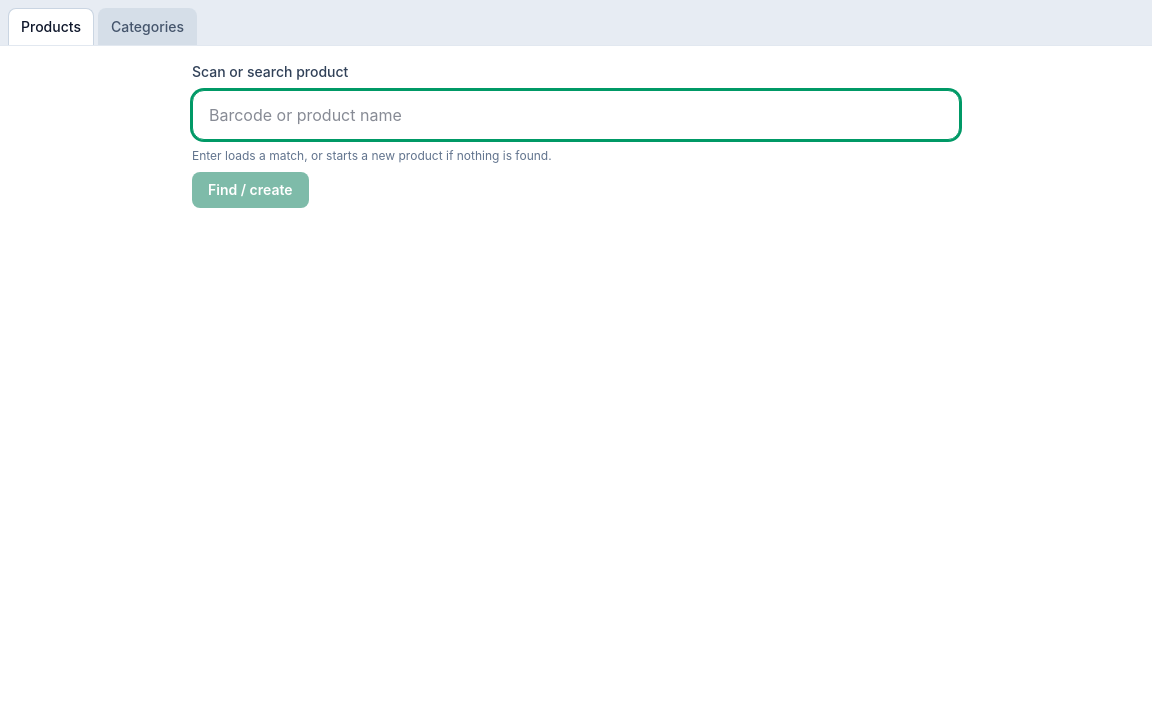
Test: ProductsWorkspace lookup › shows Back and New product on edit toolbar and Back returns to lookup when clean
The width and height of the screenshot is (1152, 710).
Type "1001" into the dropdown labelled "Scan or search product" at (576, 115), box top-left (192, 90), bottom-right (960, 140)
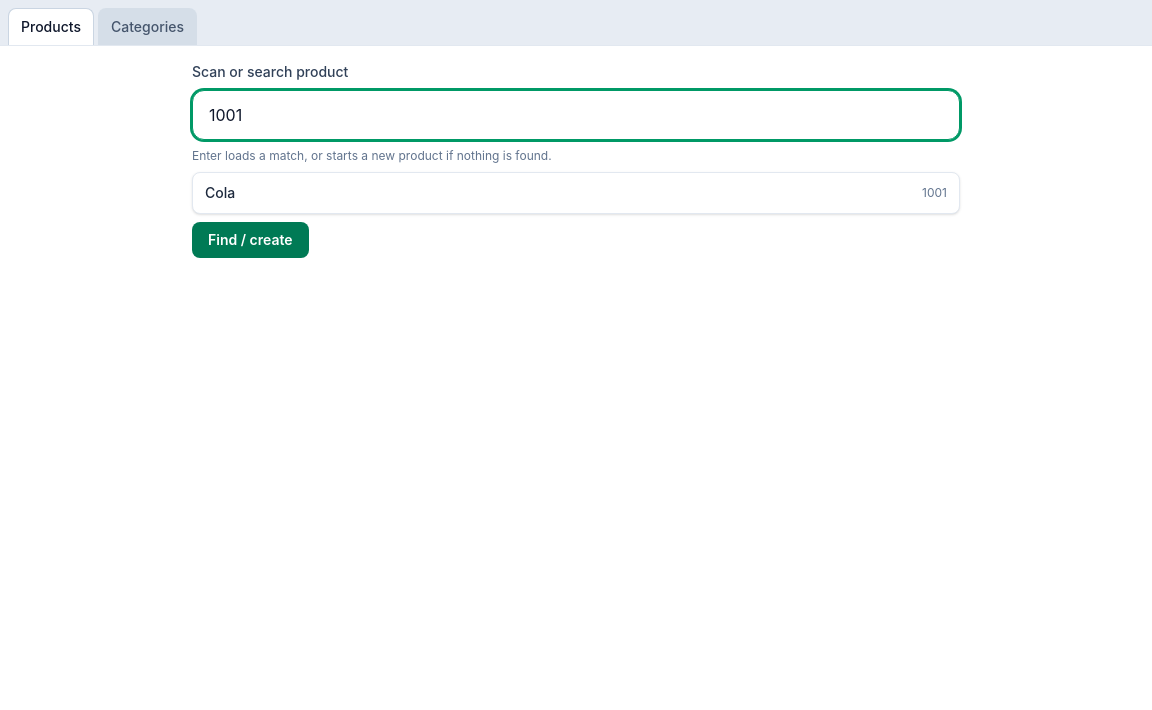
Click the button "Find / create" at (250, 240), box top-left (192, 222), bottom-right (308, 258)
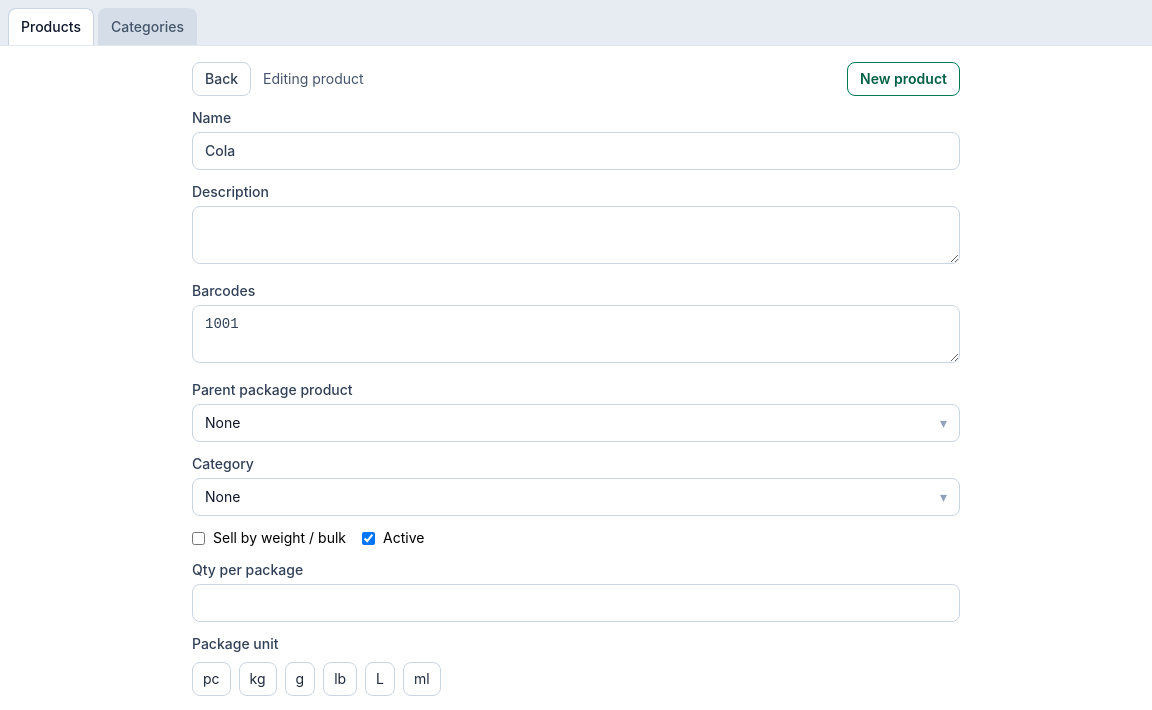
Expected: the button with test id "product-editor-new" reads "New product", top-left (847, 62), bottom-right (960, 96)
Expected: the element with test id "product-editor-toolbar" is shown, top-left (192, 62), bottom-right (960, 96)
Expected: the button with test id "product-editor-back" reads "Back"
Click the button with test id "product-editor-back" at (222, 79), box top-left (192, 62), bottom-right (251, 96)
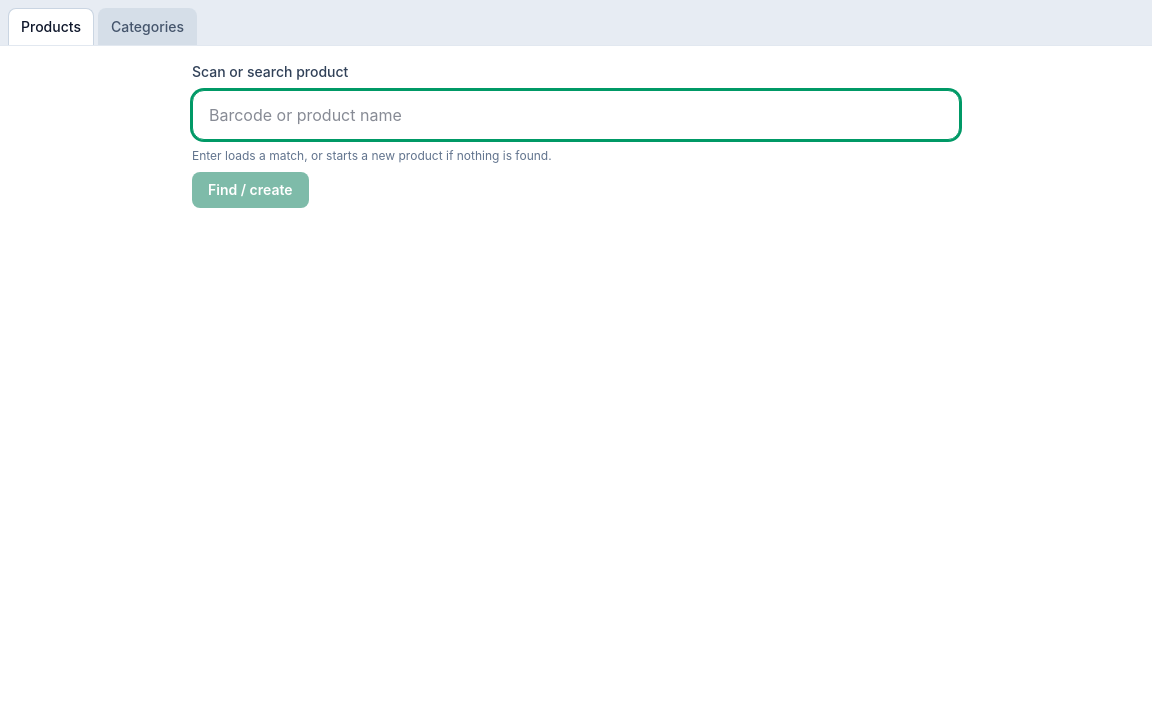
Expected: the form with test id "product-lookup" is shown, top-left (192, 62), bottom-right (960, 208)
